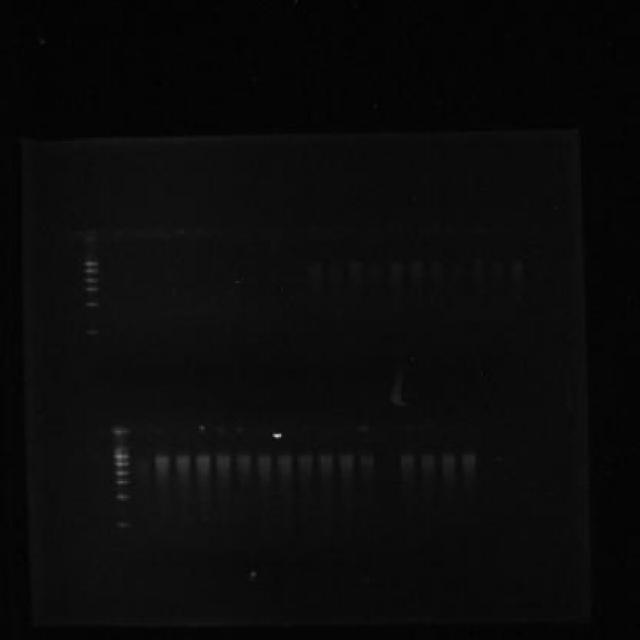L: (99, 404, 478, 444)
M: (100, 444, 138, 536), (80, 246, 103, 339)
P: (113, 468, 132, 476), (115, 522, 132, 530), (114, 478, 131, 486), (113, 459, 130, 467), (84, 268, 100, 276), (114, 493, 130, 501), (113, 452, 130, 459), (84, 328, 98, 336), (85, 300, 98, 308), (85, 285, 98, 293), (85, 276, 98, 284), (85, 261, 98, 267)
Pc: (111, 420, 131, 437)
